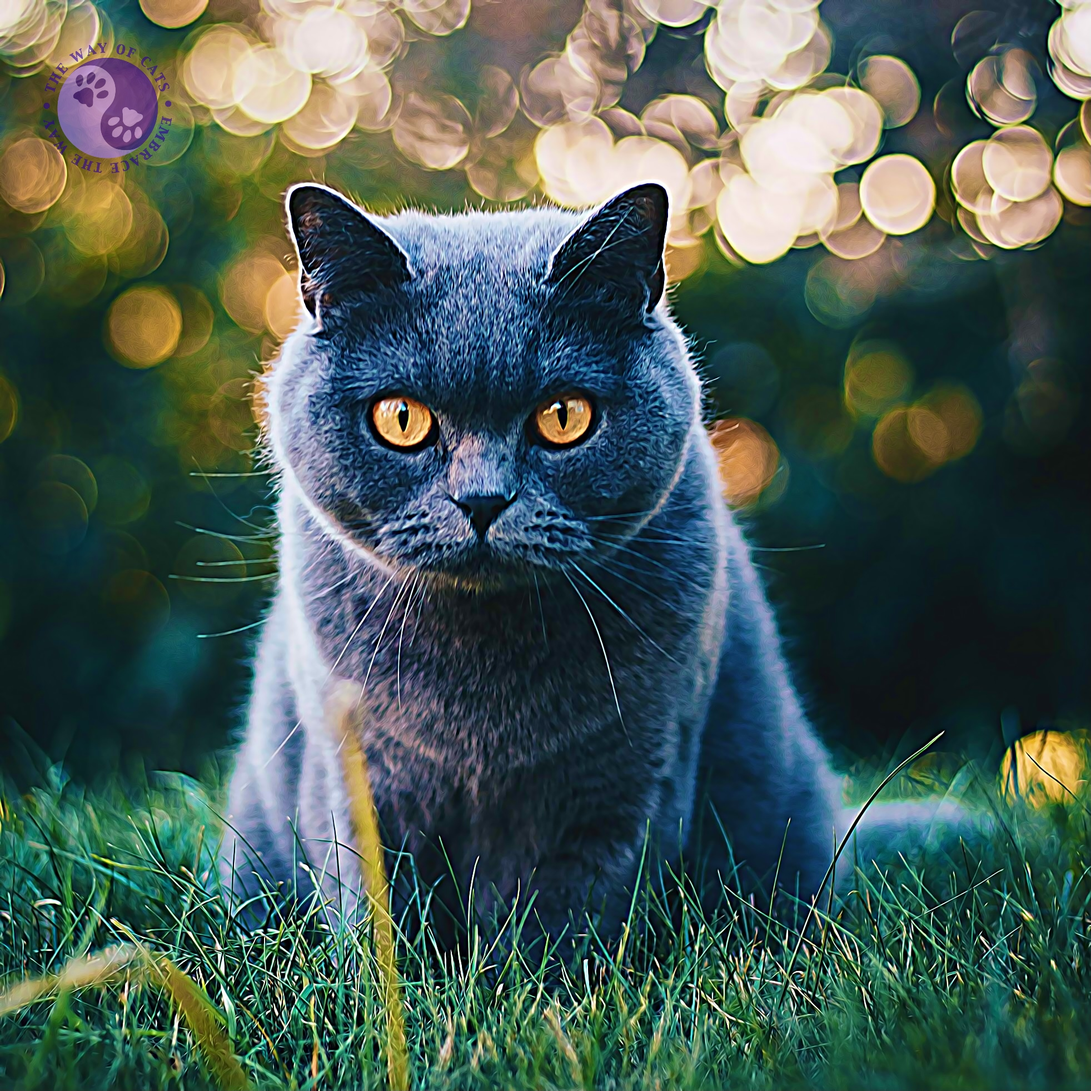Cat: (138, 167, 898, 957)
